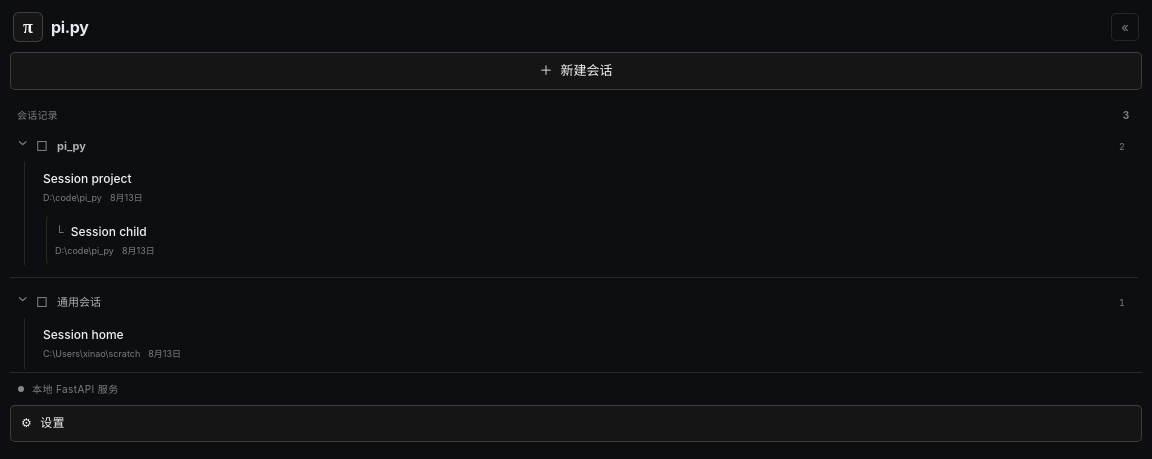
Test: SessionSidebar › groups sessions by collapsible project folders and keeps generic sessions last
The width and height of the screenshot is (1152, 459).
Expected: the number of elements with class "session-project-group" is 2, [10,131,1138,265]; [10,277,1138,368]
Expected: the number of buttons with class "session-item--fork" is 1, [46,214,1138,265]
Click the button with class "session-project-heading" showing "› □ pi_py 2" at (24,143), box [10,131,1138,162]
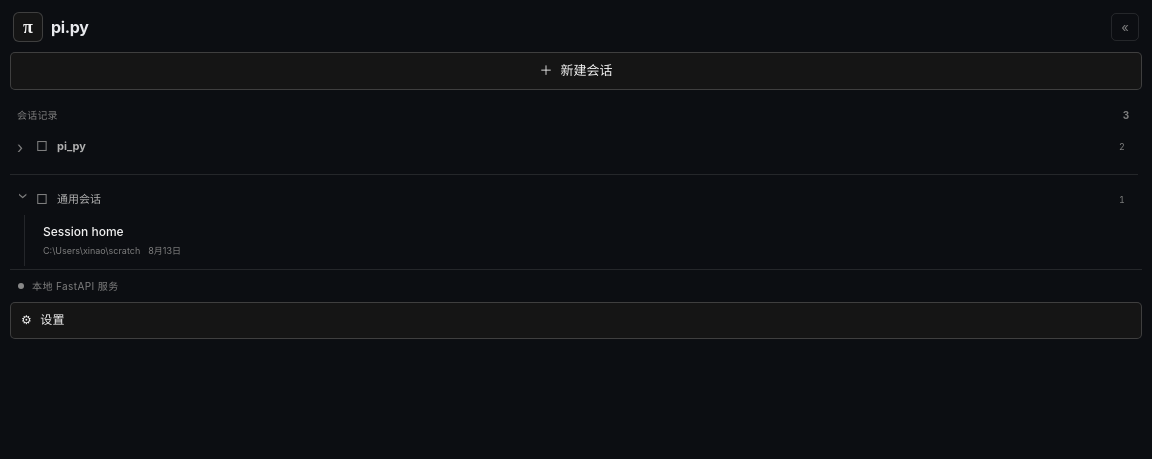
Now the button with class "session-project-heading" is collapsed, box [10,131,1138,162]
